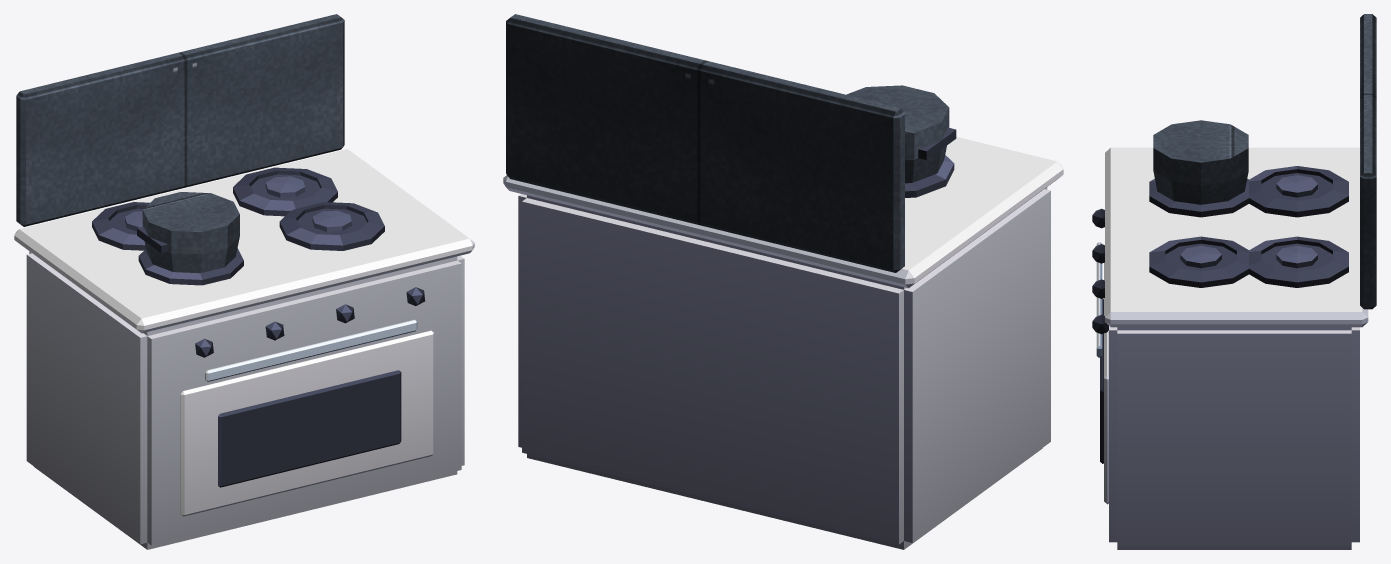
Rendered from stove.glb.
3 views of the same model, side by side, from view 1: azimuth 30°, elevation 25°; view 2: azimuth 150°, elevation 25°; view 3: azimuth 270°, elevation 25° (orthographic). The views are drawn at different scales.
Parts seen in each view (by area): view 1: stove; view 2: stove; view 3: stove.
Boxes of the visible parts, bbox=[...] form: stove: bbox=[14, 14, 474, 549]; stove: bbox=[503, 14, 1063, 549]; stove: bbox=[1092, 14, 1376, 549].
Bounding box in the file's own units: 0.96 × 1 × 0.6801.
Materials: 5 (5 with a texture image).
